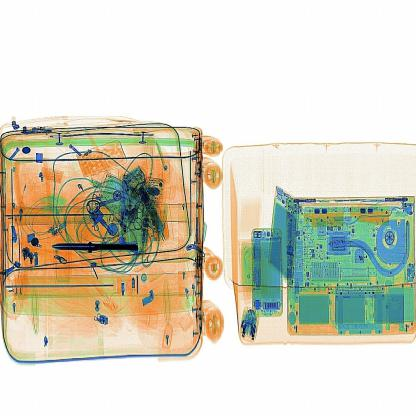gun: (38, 234, 149, 261)
